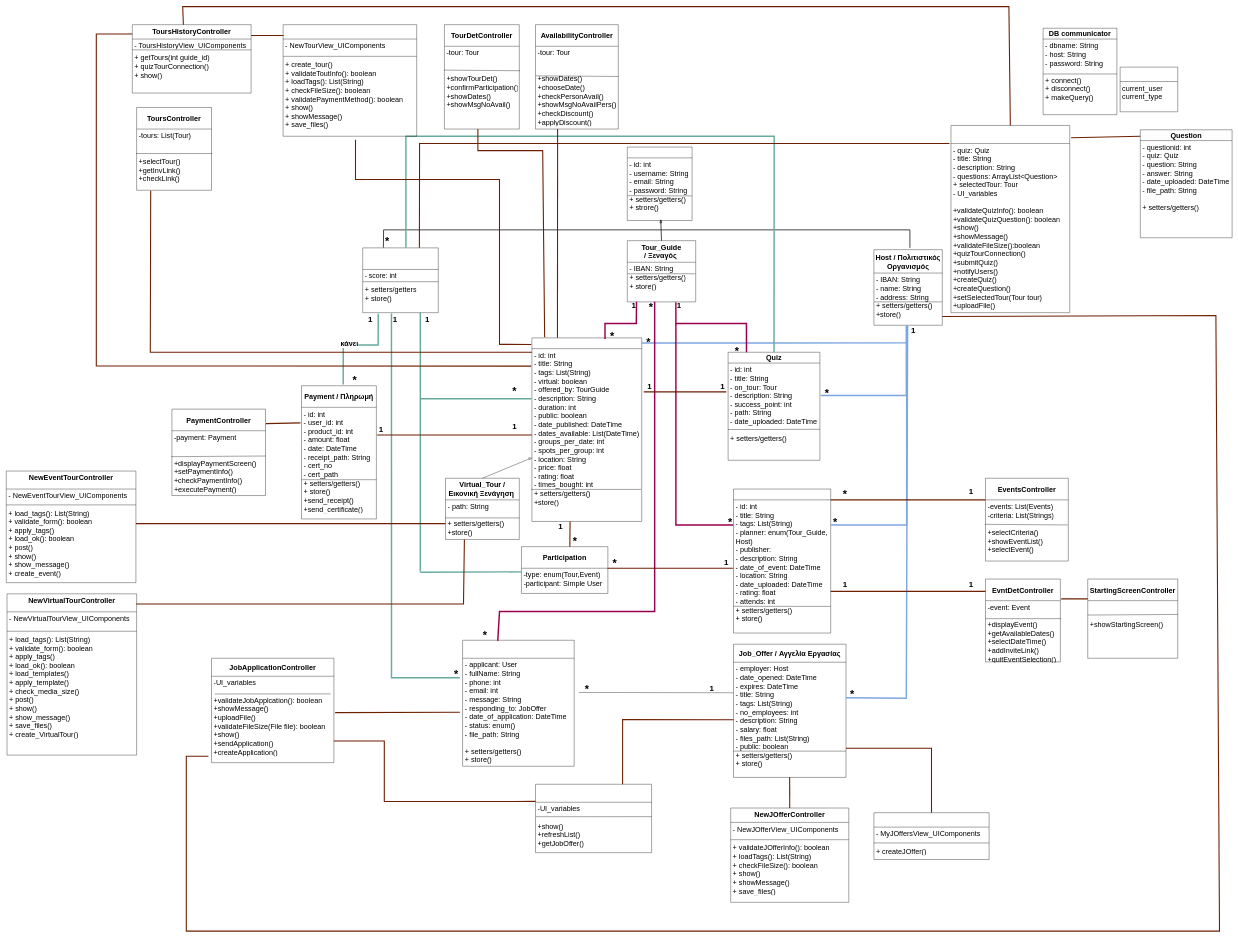
Image size: 1238x938. Some labels were removed from this diagram. Each missing label, with the box of its shape:
Event / Εκδήλωση: (733, 489, 831, 633)
Job_Application / Αίτηση Εργασίας: (462, 640, 574, 766)
JobOffersListController: (535, 784, 652, 853)
Main: (1120, 67, 1178, 112)
MyJOffersController: (874, 812, 989, 860)
NewQuizController: (951, 125, 1070, 313)
NewTourController: (283, 24, 417, 136)
Simple_User / Απλός Χρήστης: (362, 248, 438, 313)
Tour / Ξενάγηση: (532, 338, 642, 521)
User / Χρήστης: (627, 147, 692, 220)
